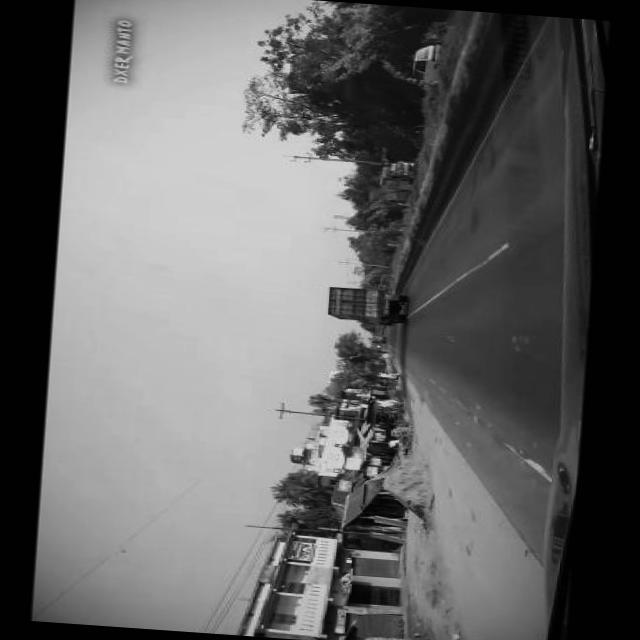bus: (366, 334, 384, 344)
car: (406, 42, 439, 84)
truck: (320, 285, 409, 328), (376, 160, 416, 190)
